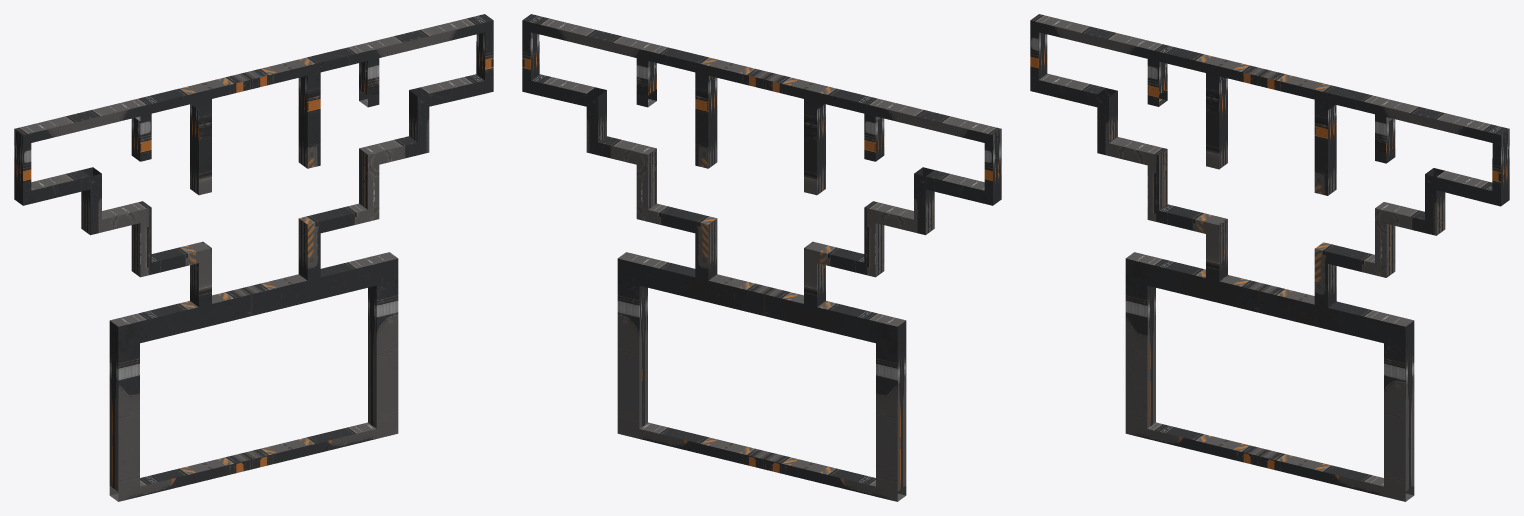
File: Level6.fbx
The picture shows the model from 3 angles, left to right: view 1: azimuth 30°, elevation 25°; view 2: azimuth 150°, elevation 25°; view 3: azimuth 330°, elevation 25°; orthographic projection.
Parts seen in each view (by area): view 1: Cube; view 2: Cube; view 3: Cube.
Part boxes in pixels (x1=…): Cube: x1=14, y1=14, x2=493, y2=501; Cube: x1=522, y1=14, x2=1001, y2=501; Cube: x1=1030, y1=14, x2=1509, y2=501.
Bounding box in the file's own units: 3199 × 2533 × 104.
